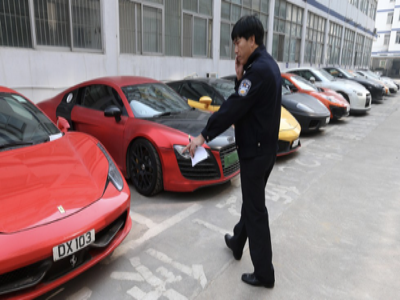licence: (52, 223, 94, 267)
